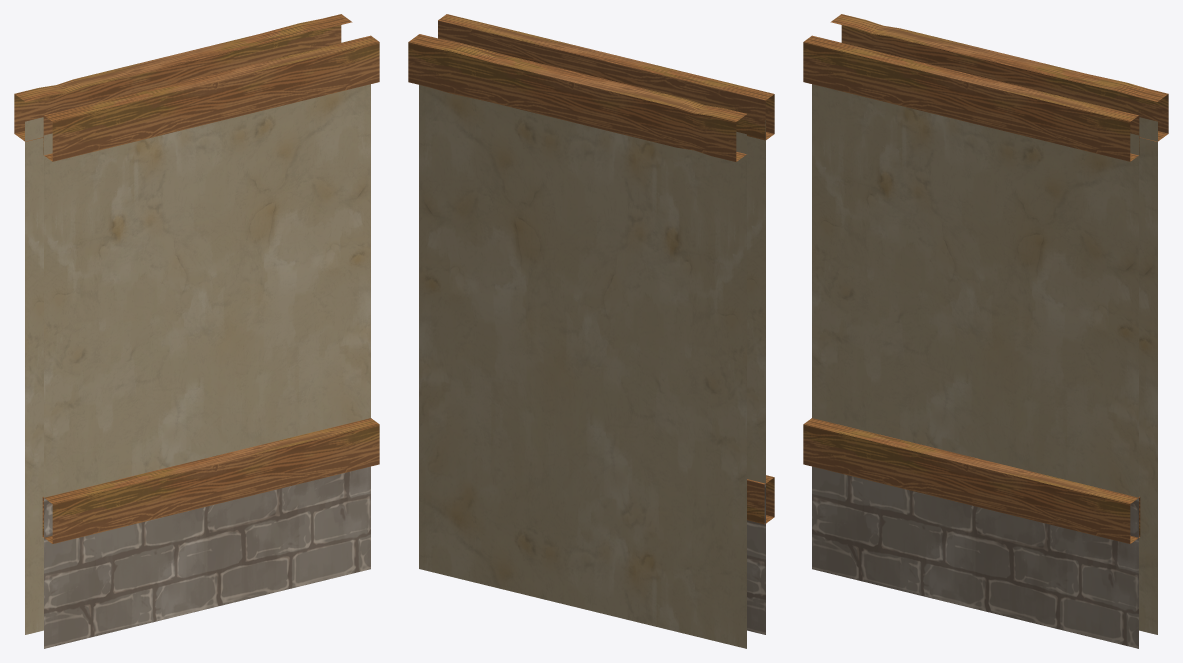
File: Wall_Plaster_Straight_Base.gltf
3 views of the same model, side by side, from view 1: azimuth 30°, elevation 25°; view 2: azimuth 150°, elevation 25°; view 3: azimuth 330°, elevation 25° (orthographic).
Visible parts, largest first — view 1: Wall_Plaster_Straight_Base; view 2: Wall_Plaster_Straight_Base; view 3: Wall_Plaster_Straight_Base.
Part boxes in pixels (left/top/right/bottom): Wall_Plaster_Straight_Base: left=14, top=14, right=379, bottom=648; Wall_Plaster_Straight_Base: left=408, top=14, right=774, bottom=648; Wall_Plaster_Straight_Base: left=803, top=14, right=1168, bottom=648.
Size of the model in its own units: 2 by 3.12 by 0.4065.
Materials: 3 (3 with a texture image).
